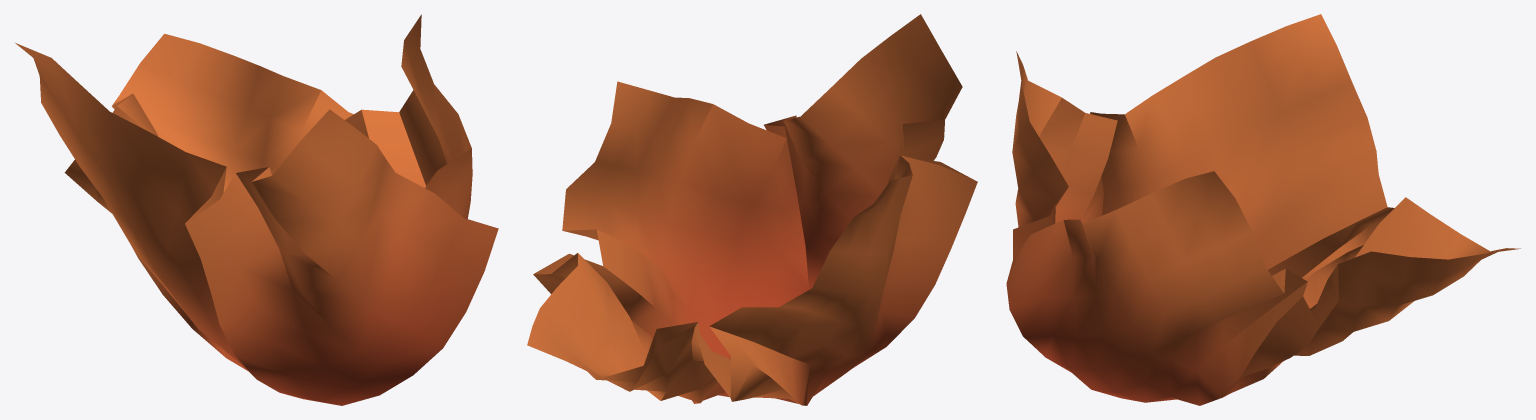
File: PaperBallCrumble_Type6.fbx
3 renders of one model, left to right at view 1: azimuth 30°, elevation 25°; view 2: azimuth 150°, elevation 25°; view 3: azimuth 270°, elevation 25°, orthographic. The views are drawn at different scales.
Visible parts, largest first — view 1: PaperBallCrumble_Type6; view 2: PaperBallCrumble_Type6; view 3: PaperBallCrumble_Type6.
Boxes of the visible parts, <box> form: PaperBallCrumble_Type6: <box>15,14,498,405</box>; PaperBallCrumble_Type6: <box>527,14,977,405</box>; PaperBallCrumble_Type6: <box>1006,14,1520,405</box>.
Size of the model in its own units: 23.12 by 20.95 by 31.58.
